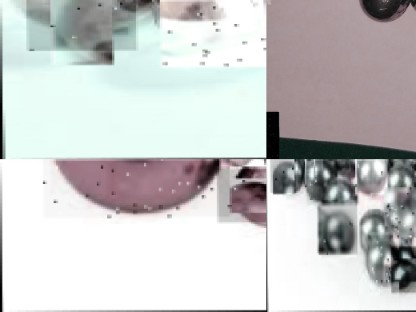ironball: (42, 158, 230, 218), (159, 0, 266, 67), (26, 0, 136, 50), (219, 164, 268, 217), (368, 232, 400, 288), (384, 188, 415, 238), (316, 206, 349, 251), (352, 0, 407, 25), (301, 157, 336, 196), (356, 209, 387, 252), (390, 246, 415, 293), (355, 159, 387, 195), (385, 170, 414, 204), (270, 159, 296, 192), (326, 180, 356, 202), (327, 155, 355, 176)
